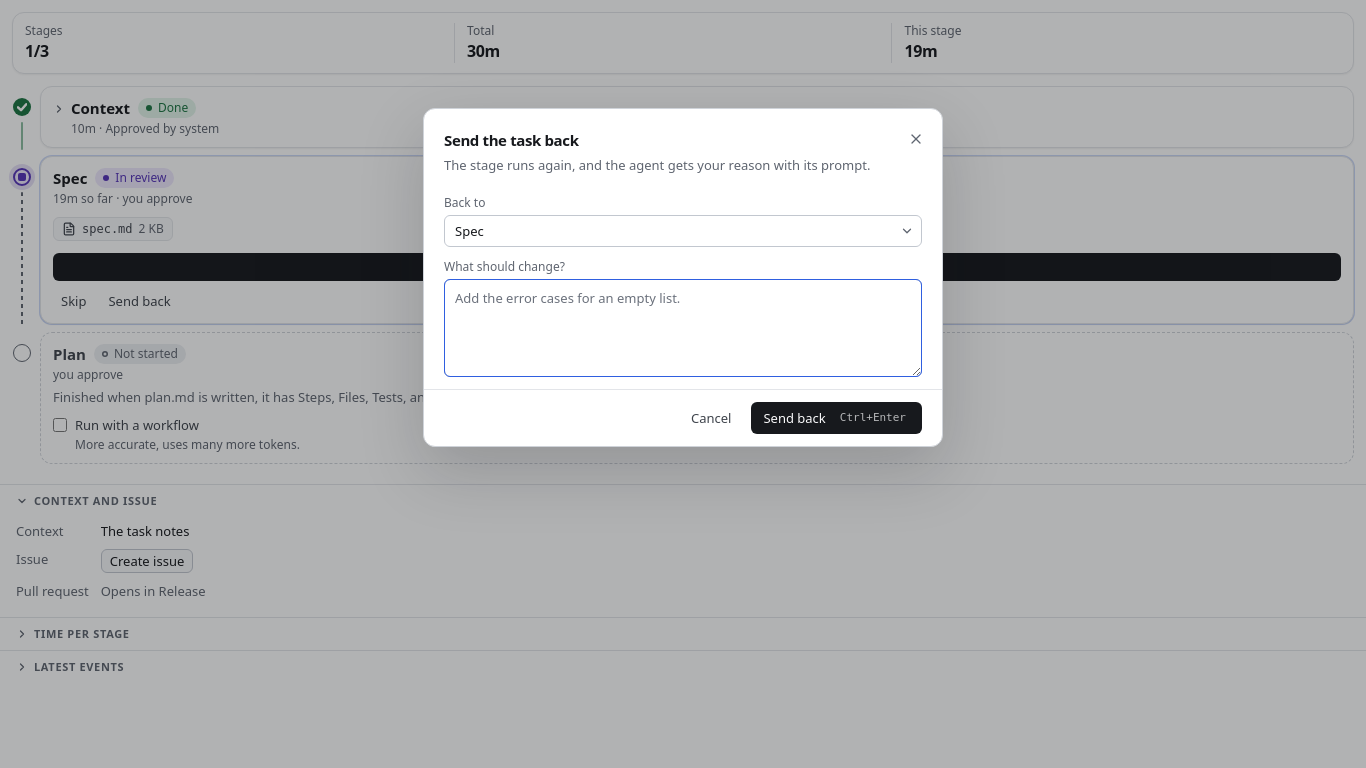
Test case: the actions of the current stage › opens the send back dialog when the review banner asks for it
The width and height of the screenshot is (1366, 768).
Expected: the element "Spec" is shown, top-left (40, 156), bottom-right (1354, 324)
Click the button "Cancel": (711, 418) top-left (679, 402), bottom-right (743, 434)
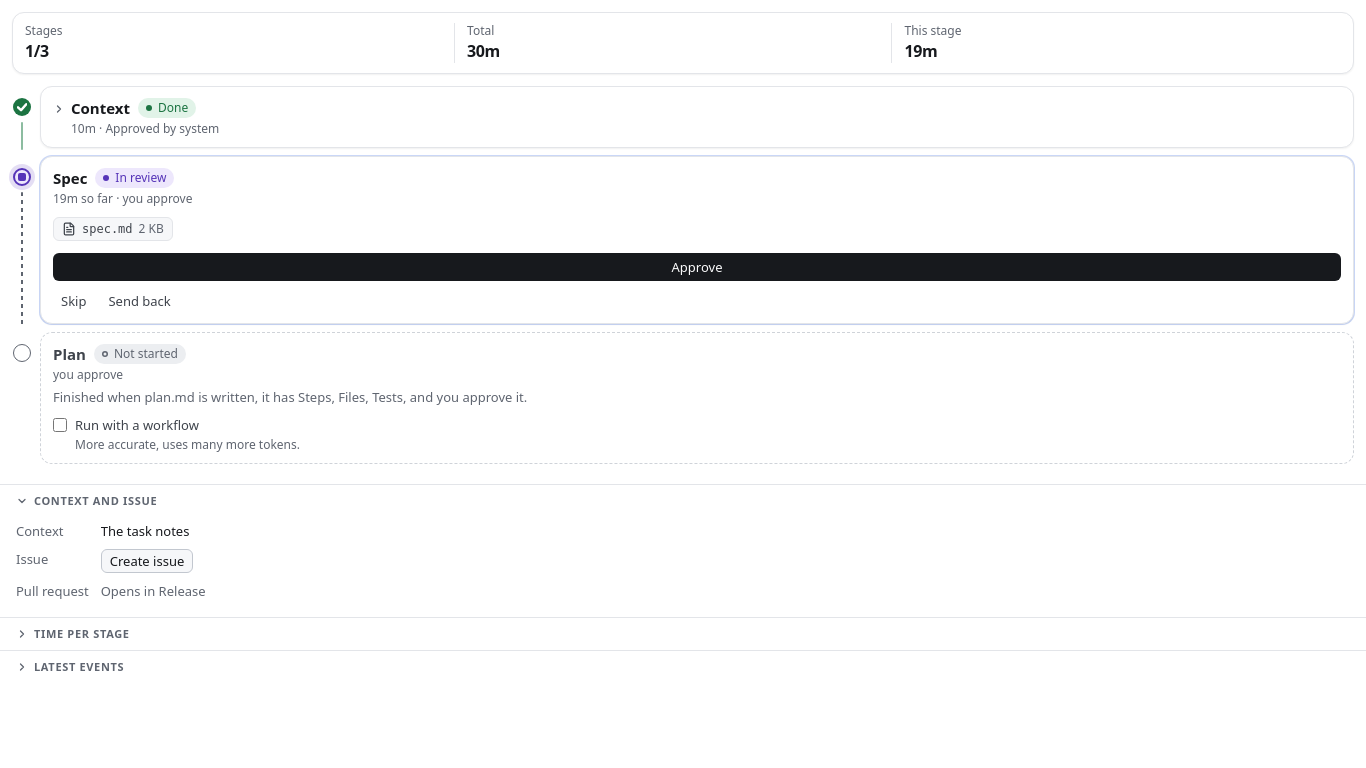
Expected: the heading "Send the task back" is gone
